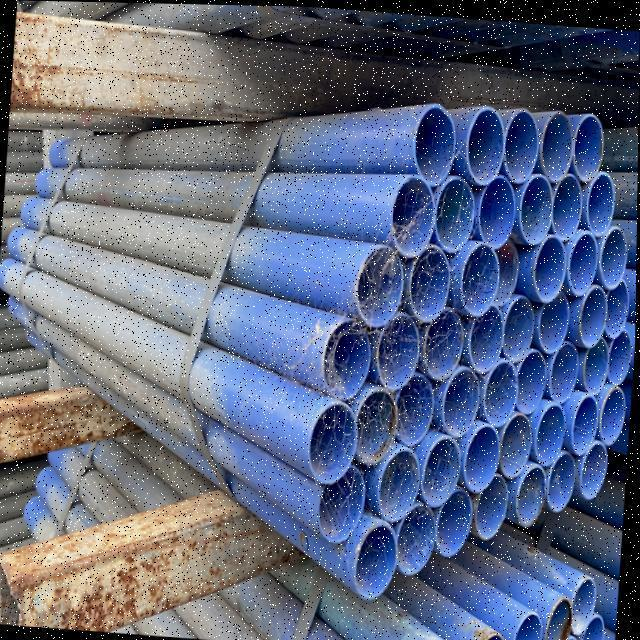pipe: (309, 398, 361, 487), (357, 246, 410, 330), (320, 464, 371, 545), (461, 103, 511, 185), (415, 101, 460, 188), (394, 175, 441, 256), (379, 310, 425, 391), (375, 448, 425, 522), (401, 495, 444, 581), (474, 173, 519, 251), (324, 322, 372, 395), (410, 241, 454, 320), (435, 174, 480, 251), (360, 387, 404, 465), (355, 526, 401, 600), (462, 236, 505, 312), (427, 307, 469, 384), (440, 478, 479, 560), (397, 370, 438, 445), (425, 435, 467, 507), (535, 277, 574, 353), (444, 366, 485, 437), (507, 106, 543, 185), (578, 262, 611, 348), (466, 421, 505, 493), (470, 301, 508, 372), (483, 358, 522, 427), (475, 468, 511, 542), (533, 230, 571, 299), (553, 168, 588, 240), (523, 171, 557, 243), (573, 111, 608, 180), (535, 400, 572, 462), (545, 107, 577, 178), (515, 461, 551, 524), (583, 169, 618, 233), (505, 411, 536, 483), (505, 292, 537, 359), (548, 449, 581, 512), (569, 393, 602, 455), (572, 228, 603, 292), (549, 336, 582, 396), (520, 347, 549, 413), (601, 376, 627, 444), (572, 572, 600, 635), (580, 439, 609, 497), (584, 333, 613, 389), (606, 276, 631, 337), (605, 225, 629, 285), (499, 235, 521, 299), (548, 594, 577, 640), (611, 330, 630, 379), (519, 614, 546, 640), (585, 614, 606, 640)
